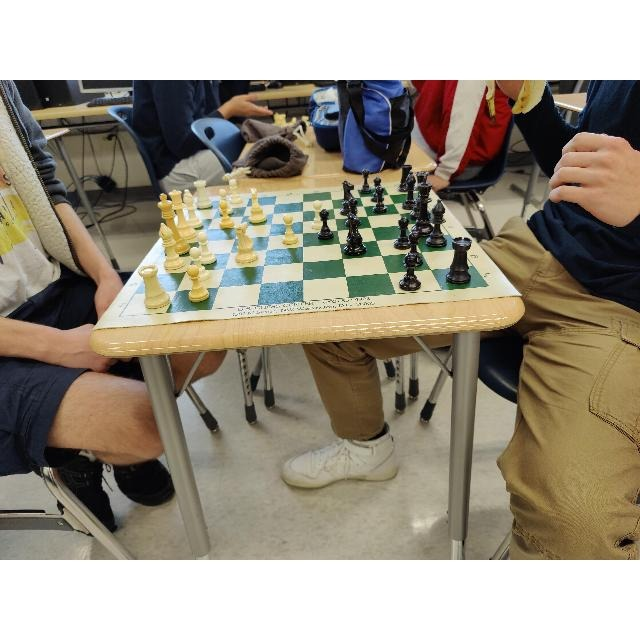black-bishop: (427, 200, 447, 248), (403, 171, 415, 210)
black-king: (413, 181, 435, 238)
black-knight: (342, 214, 367, 256), (340, 181, 358, 215)
black-pawn: (399, 255, 420, 291), (394, 216, 411, 249), (408, 232, 423, 266), (318, 209, 334, 239), (346, 199, 361, 227), (372, 186, 387, 213), (371, 177, 385, 201), (359, 168, 372, 193)
black-queen: (409, 171, 430, 221)
black-rook: (447, 236, 471, 285), (399, 164, 413, 191)
white-bishop: (159, 223, 185, 271), (183, 189, 203, 229)
white-king: (159, 193, 191, 255)
white-knight: (235, 222, 258, 263), (248, 187, 267, 223)
white-pawn: (186, 265, 209, 302), (189, 248, 210, 282), (198, 233, 216, 265), (283, 213, 298, 244), (218, 201, 233, 229), (311, 198, 323, 230), (219, 189, 233, 215), (229, 180, 242, 204)
white-queen: (169, 190, 197, 240)
white-rook: (138, 265, 170, 309), (194, 179, 212, 208)
